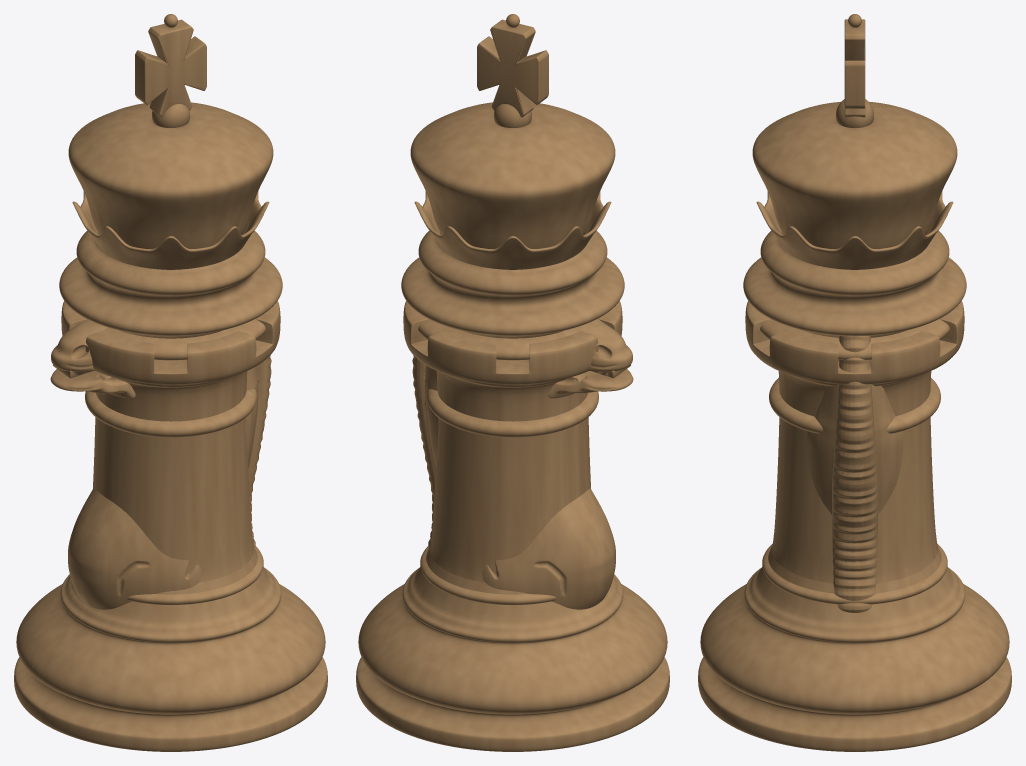
File: staunton1849.glb
The picture shows the model from 3 angles, left to right: view 1: azimuth 30°, elevation 25°; view 2: azimuth 150°, elevation 25°; view 3: azimuth 270°, elevation 25°; orthographic projection.
Parts seen in each view (by area): view 1: k, r, n, q, b; view 2: k, r, n, q, b; view 3: k, r, n, q, b.
Part boxes in pixels (x1,y1,x2,y2): k: (14, 14, 327, 751); r: (61, 301, 280, 604); n: (50, 319, 271, 609); q: (72, 191, 269, 360); b: (85, 389, 256, 437); k: (356, 14, 669, 751); r: (403, 301, 622, 604); n: (412, 319, 633, 609); q: (414, 191, 611, 360); b: (427, 389, 598, 437); k: (698, 14, 1011, 751); r: (745, 301, 964, 604); n: (773, 336, 936, 612); q: (756, 191, 953, 359); b: (769, 378, 940, 433).
Bounding box in the file's own units: 0.7717 × 1.83 × 0.7717.
Materials: 1 (1 with a texture image).
